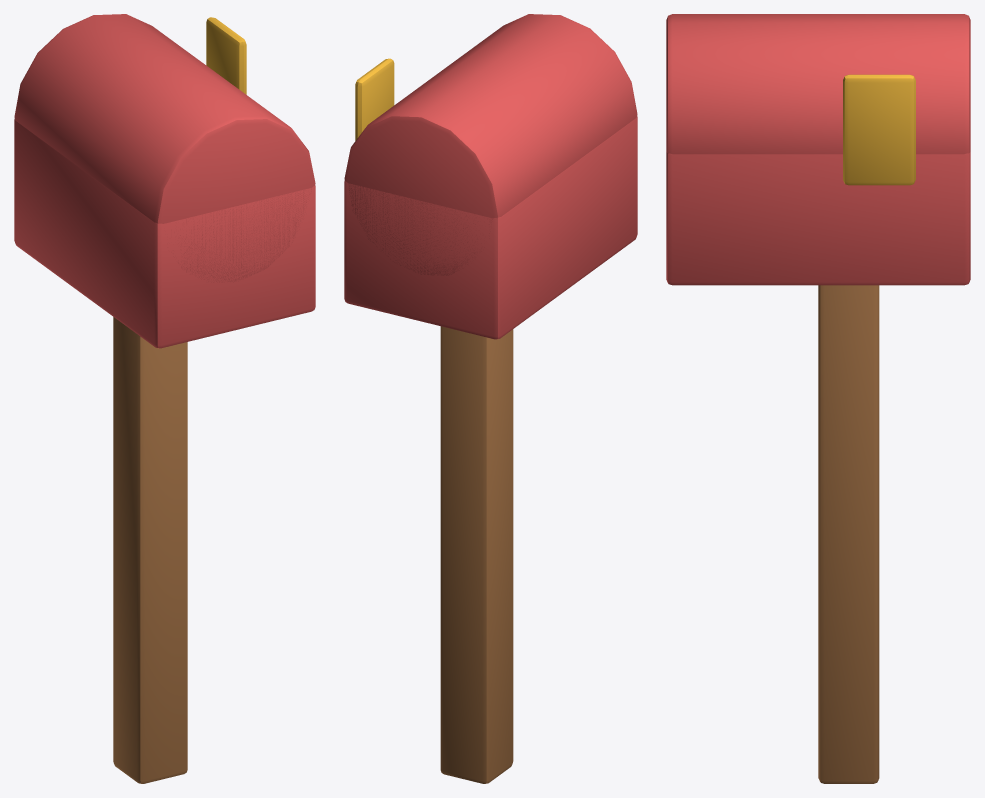
Rendered from mailbox.glb.
3 renders of one model, left to right at view 1: azimuth 30°, elevation 25°; view 2: azimuth 150°, elevation 25°; view 3: azimuth 270°, elevation 25°, orthographic. The views are drawn at different scales.
Parts seen in each view (by area): view 1: MailboxMesh; view 2: MailboxMesh; view 3: MailboxMesh.
Part boxes in pixels (x1,y1,x2,y2): MailboxMesh: (14,14,315,783); MailboxMesh: (344,14,637,783); MailboxMesh: (666,14,970,783).
Bounding box in the file's own units: 0.35 × 1.36 × 0.5.
